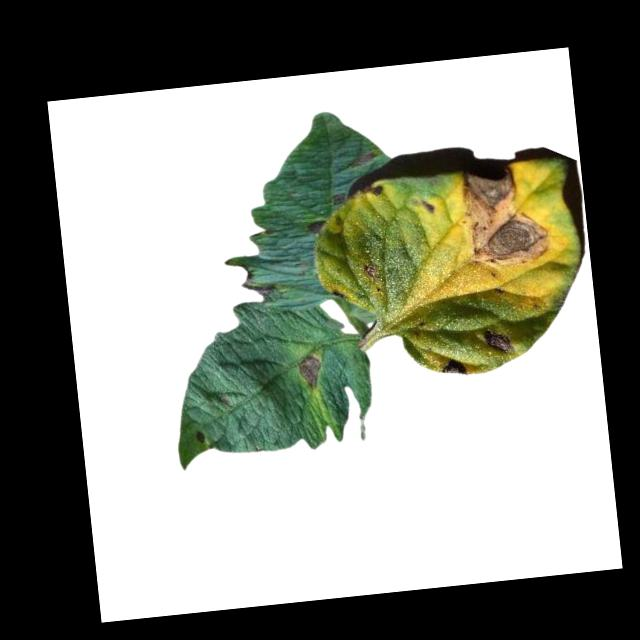Early_blight: (458, 163, 553, 272), (298, 351, 324, 390), (482, 326, 512, 355), (439, 354, 468, 380), (361, 182, 385, 198), (360, 263, 378, 281), (307, 219, 326, 234), (331, 193, 347, 208), (195, 429, 206, 444)
